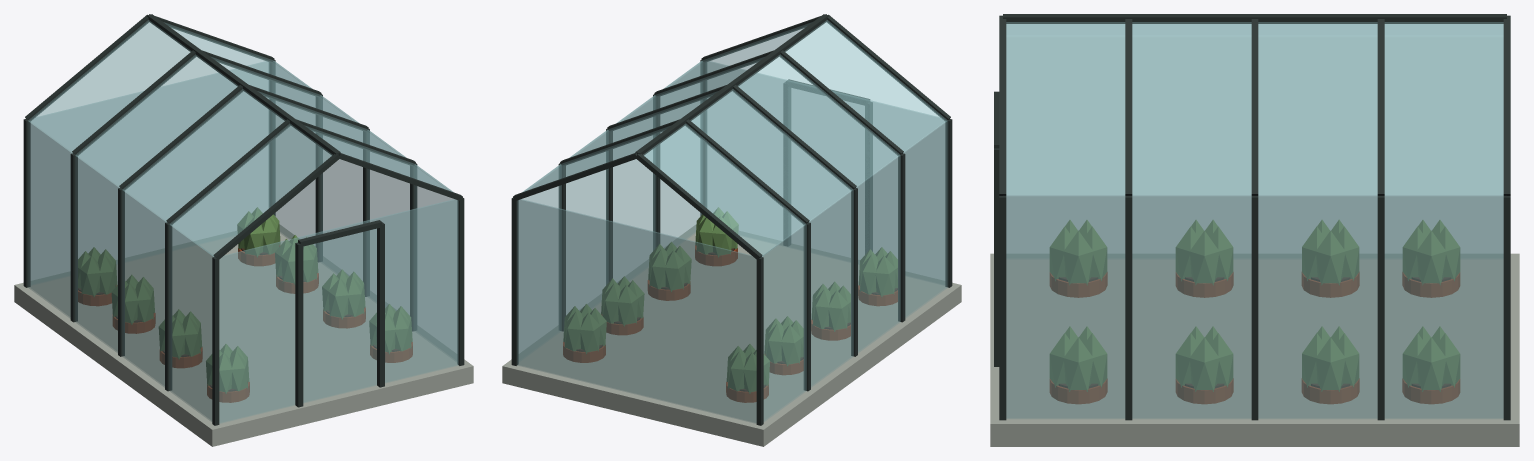
File: greenhouse.glb
The picture shows the model from 3 angles, left to right: view 1: azimuth 30°, elevation 25°; view 2: azimuth 150°, elevation 25°; view 3: azimuth 270°, elevation 25°; orthographic projection. The views are drawn at different scales.
Visible parts, largest first — view 1: greenhouse_Sklo, greenhouse_Kamen, greenhouse_Antracit, greenhouse_Zelen, greenhouse_Corten; view 2: greenhouse_Sklo, greenhouse_Kamen, greenhouse_Antracit, greenhouse_Zelen, greenhouse_Corten; view 3: greenhouse_Sklo, greenhouse_Kamen, greenhouse_Zelen, greenhouse_Antracit, greenhouse_Corten, greenhouse_Substrat.
Boxes of the visible parts, <box> form: greenhouse_Sklo: <box>28,20,458,423</box>; greenhouse_Kamen: <box>14,224,473,446</box>; greenhouse_Antracit: <box>23,14,464,425</box>; greenhouse_Zelen: <box>78,207,412,393</box>; greenhouse_Corten: <box>78,246,412,402</box>; greenhouse_Sklo: <box>517,20,947,423</box>; greenhouse_Kamen: <box>502,224,961,446</box>; greenhouse_Antracit: <box>511,14,952,425</box>; greenhouse_Zelen: <box>563,207,897,393</box>; greenhouse_Corten: <box>563,245,897,402</box>; greenhouse_Sklo: <box>1006,22,1503,418</box>; greenhouse_Kamen: <box>990,253,1519,446</box>; greenhouse_Zelen: <box>1049,219,1460,391</box>; greenhouse_Antracit: <box>994,14,1510,420</box>; greenhouse_Corten: <box>1049,272,1460,404</box>; greenhouse_Substrat: <box>1058,277,1451,388</box>.
Size of the model in its own units: 3.2 by 3.03 by 4.2.
